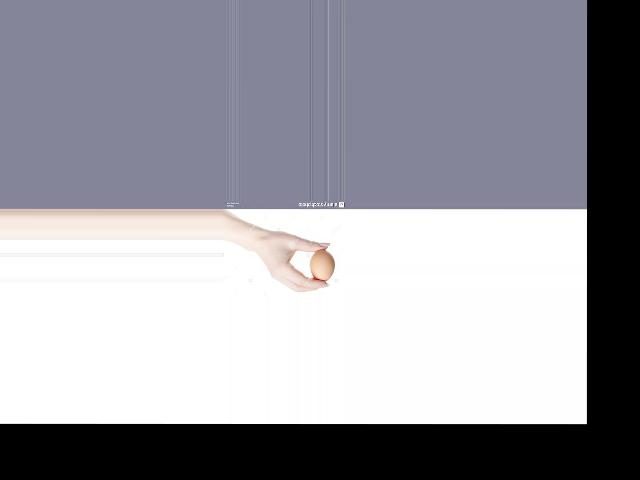egg: (308, 249, 334, 280)
